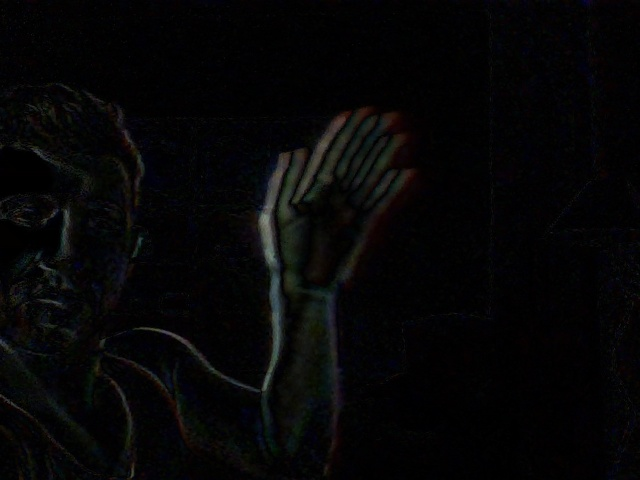arm_fo: (258, 91, 416, 480)
